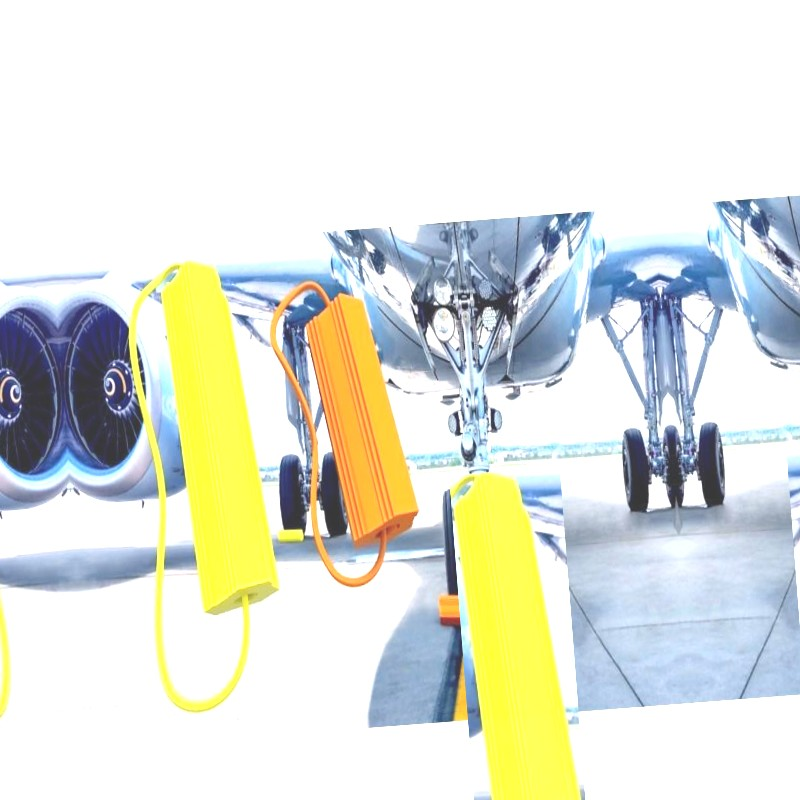chock: (449, 467, 591, 800), (157, 257, 282, 625), (302, 290, 425, 555), (493, 587, 549, 629), (436, 591, 487, 627), (276, 526, 305, 544)
wheel: (494, 483, 530, 595), (439, 487, 475, 597), (695, 419, 729, 507), (619, 424, 652, 513), (277, 450, 310, 536), (318, 448, 350, 535), (671, 423, 688, 507), (660, 424, 677, 507)
